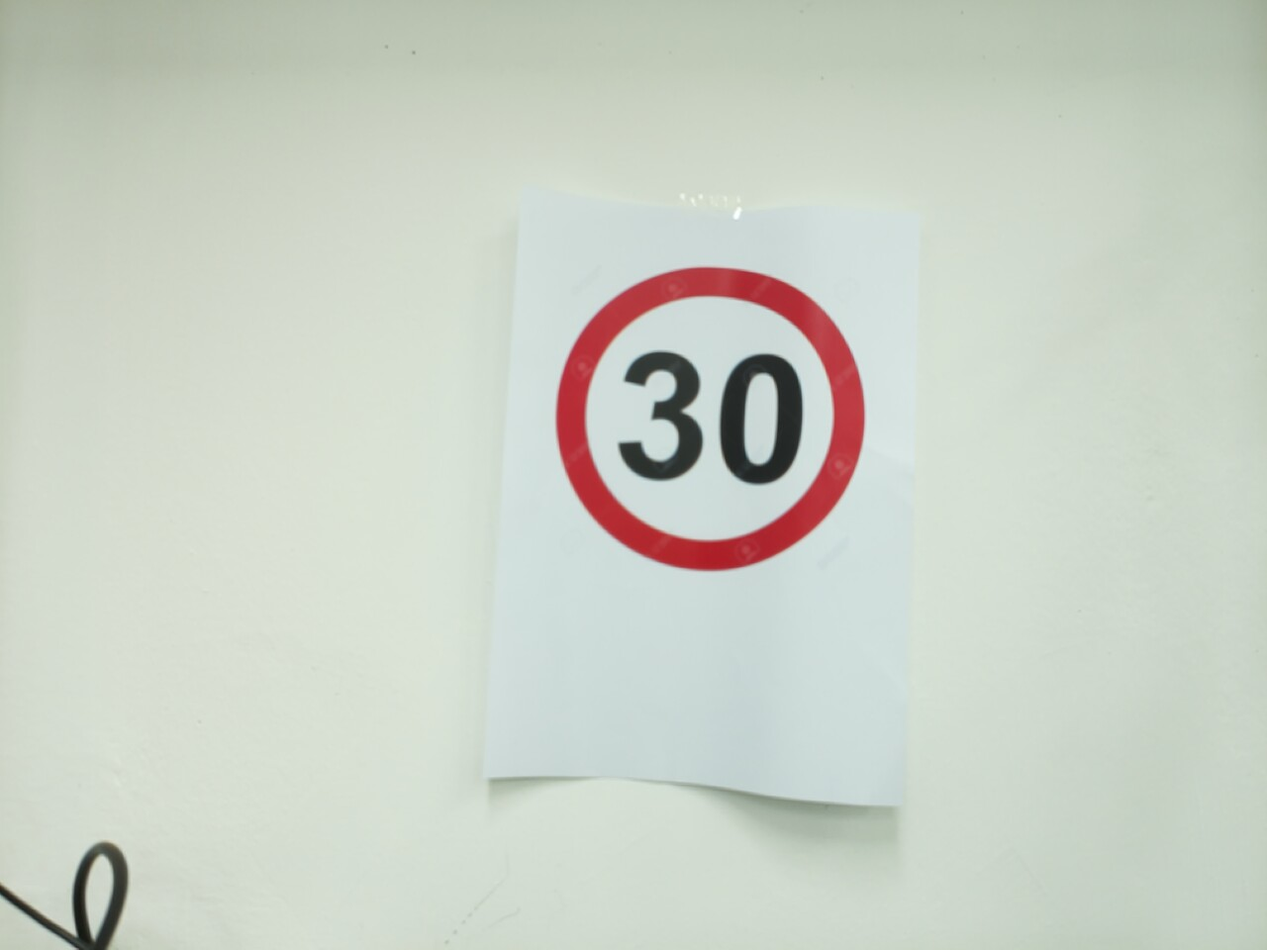speed_30: (545, 257, 875, 581)
